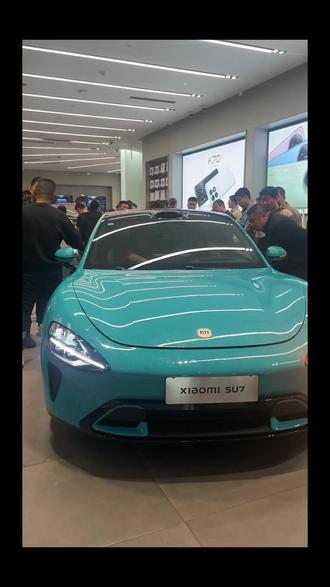su7: (39, 202, 311, 464)
